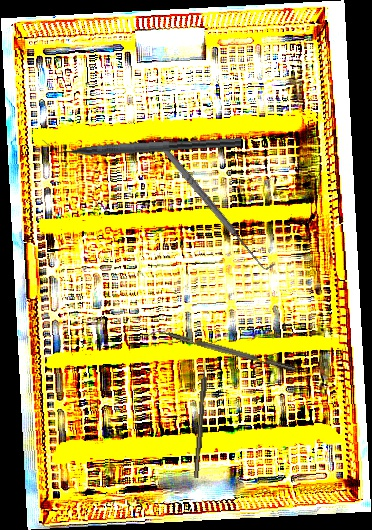Chopper: (147, 325, 296, 379), (41, 124, 242, 161)
Hook Surgical: (158, 140, 276, 276), (192, 360, 210, 479)
